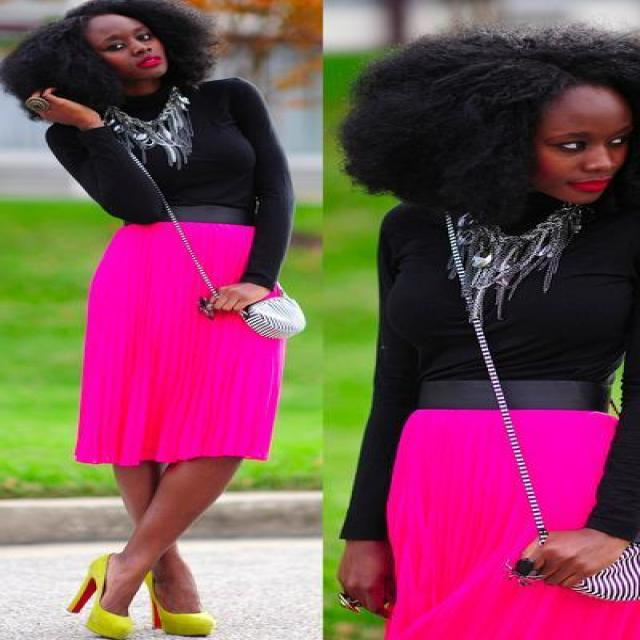bag: (195, 295, 306, 370)
shirt: (46, 75, 288, 290)
shoe: (74, 555, 210, 639)
skirt: (75, 221, 280, 465)
